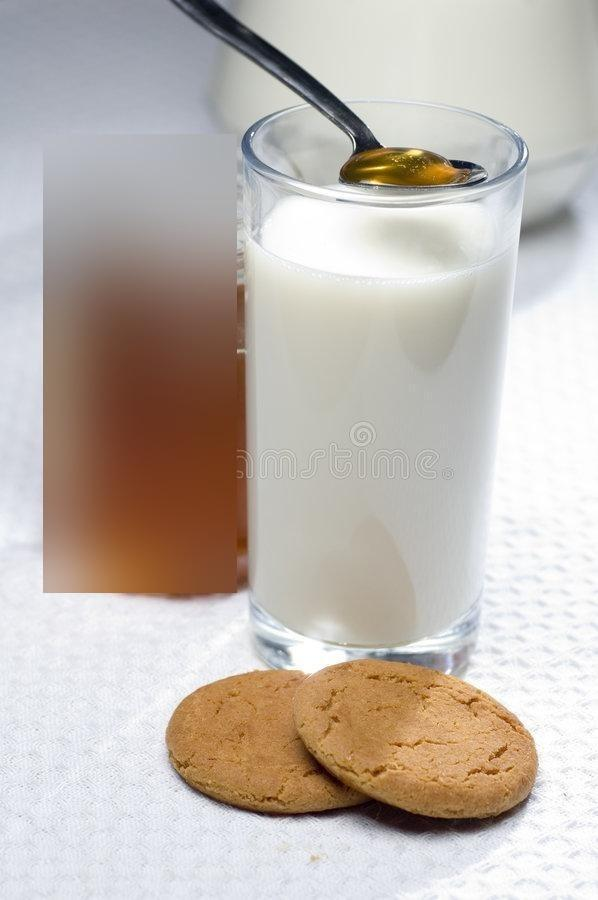glass-normal: (237, 86, 533, 707)
